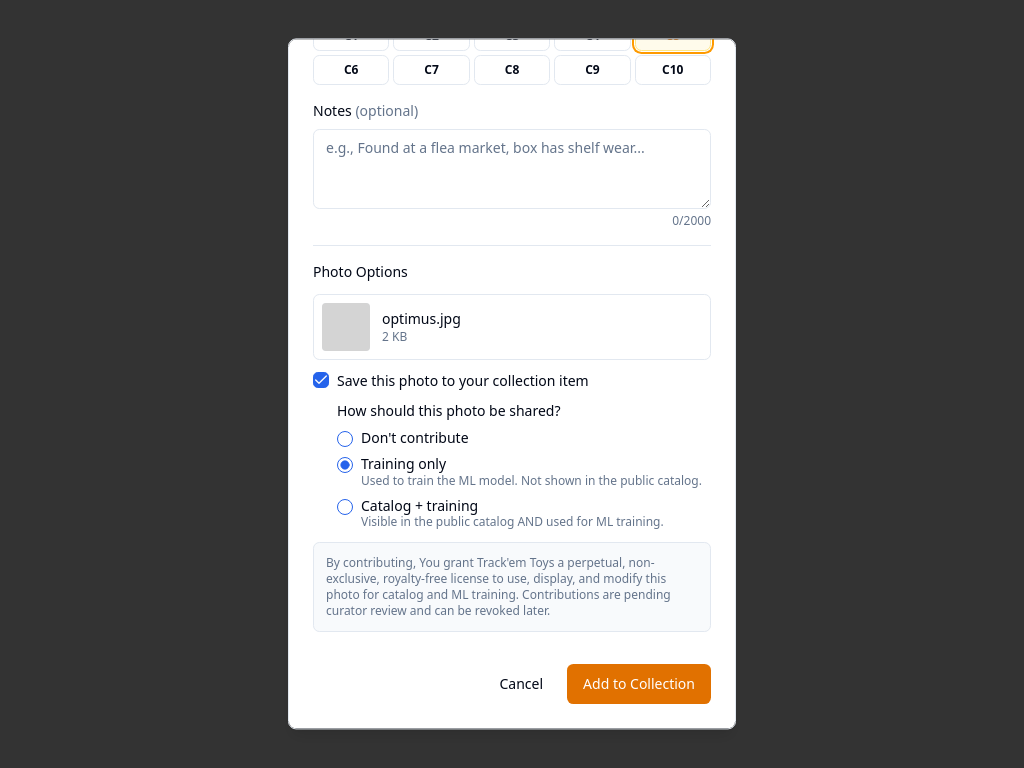
Scenario: AddToCollectionDialog › hides inline disclaimer when user picks "Don't contribute"
(page scrolled)
Expected: the text "perpetual, non-exclusive, royalty-free license" is shown, x1=326 y1=555 x2=666 y2=604
Click the radio button next to "Don't contribute".
click(345, 440)  # box x1=337 y1=432 x2=353 y2=448
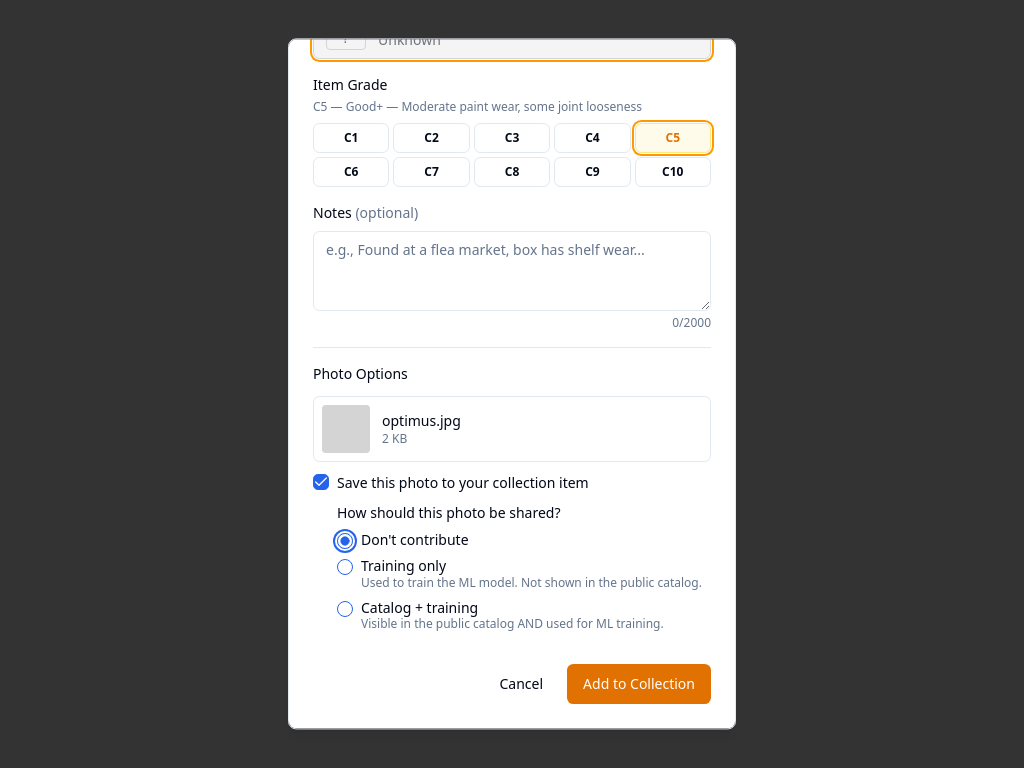
Now the text "perpetual, non-exclusive, royalty-free license" is gone
